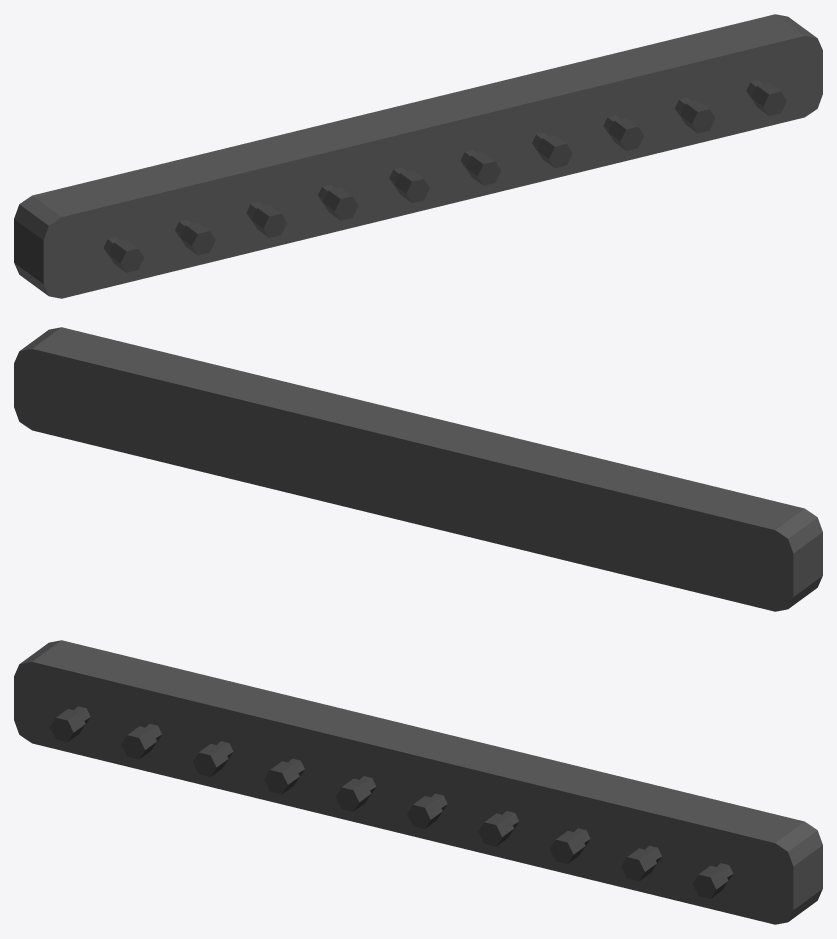
Rendered from Hanger_02.fbx.
3 renders of one model, top to bottom at view 1: azimuth 30°, elevation 25°; view 2: azimuth 150°, elevation 25°; view 3: azimuth 330°, elevation 25°, orthographic.
Parts seen in each view (by area): view 1: Hanger_02; view 2: Hanger_02; view 3: Hanger_02.
Part boxes in pixels (x1,y1,x2,y2): Hanger_02: [14, 14, 822, 298]; Hanger_02: [14, 327, 822, 611]; Hanger_02: [14, 640, 822, 924].
Bounding box in the file's own units: 50 × 5 × 5.57.
